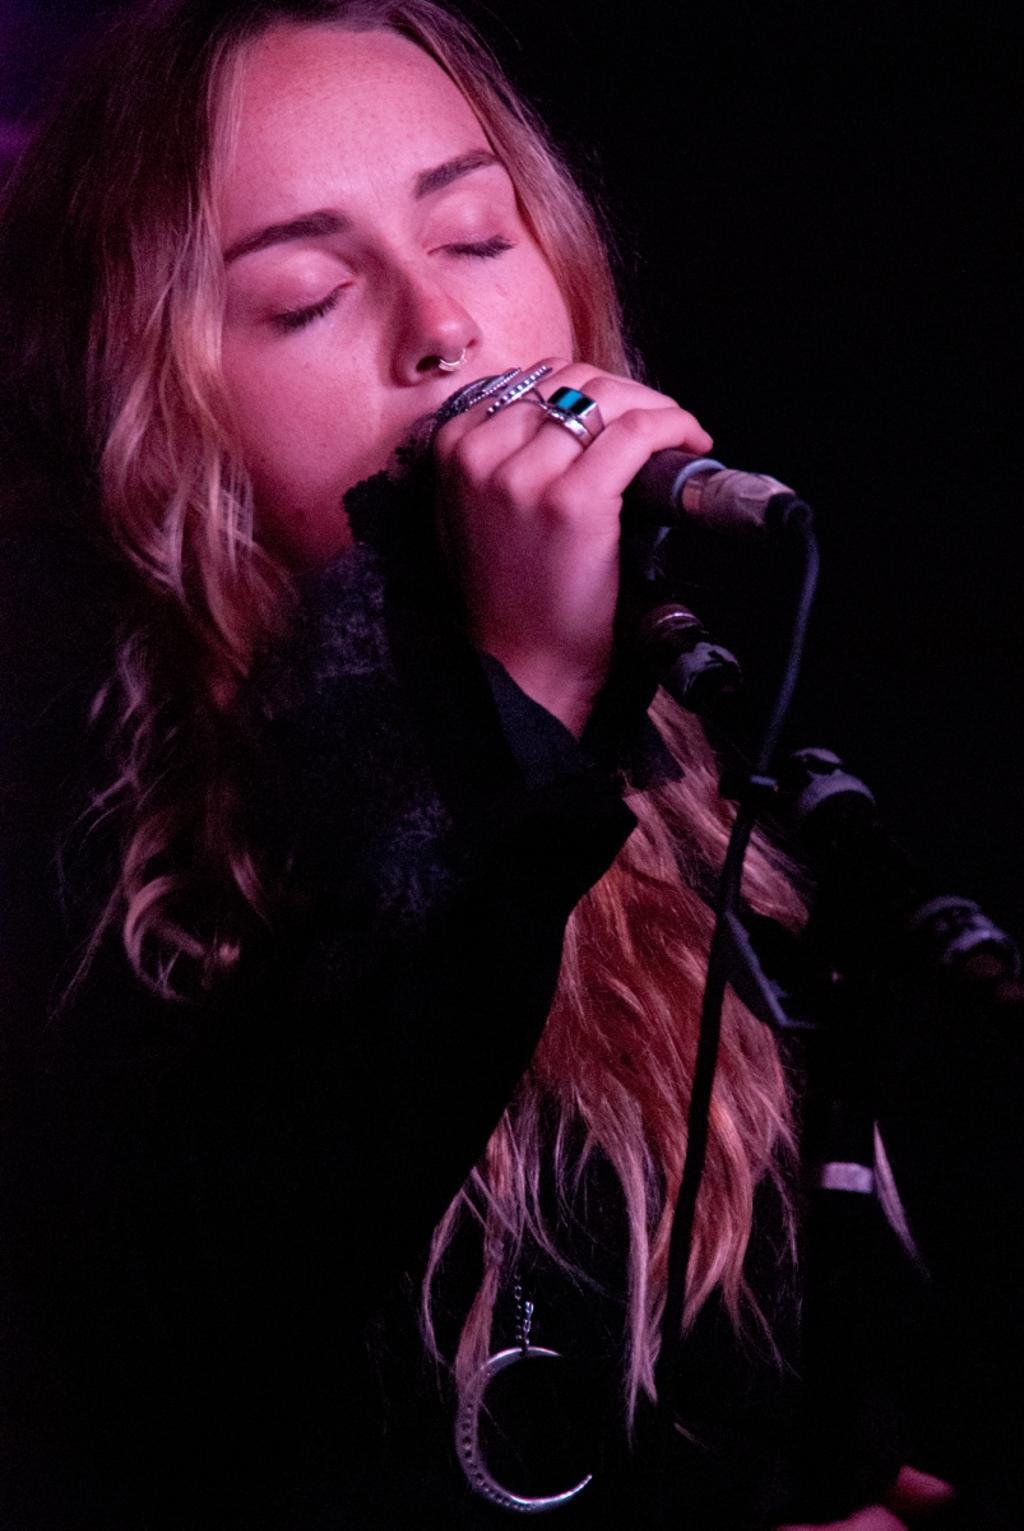face: (201, 28, 580, 580)
